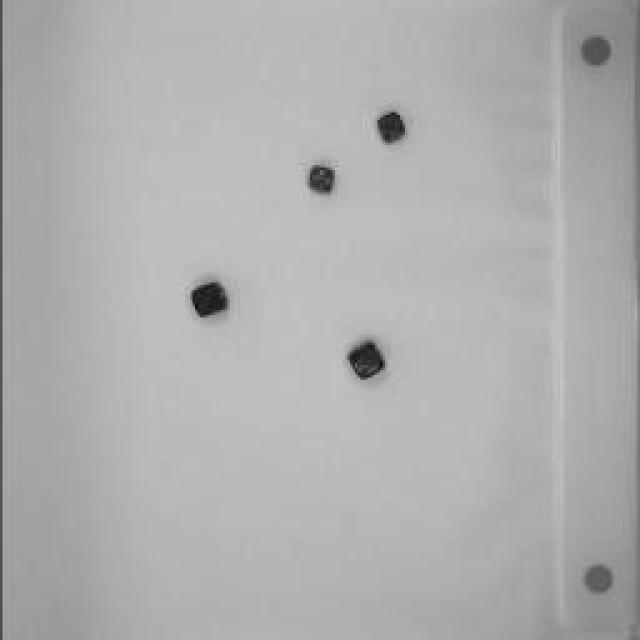dice_2: (342, 335, 390, 385), (372, 108, 408, 148)
dice_3: (186, 277, 234, 325)
dice_4: (302, 161, 338, 199)
